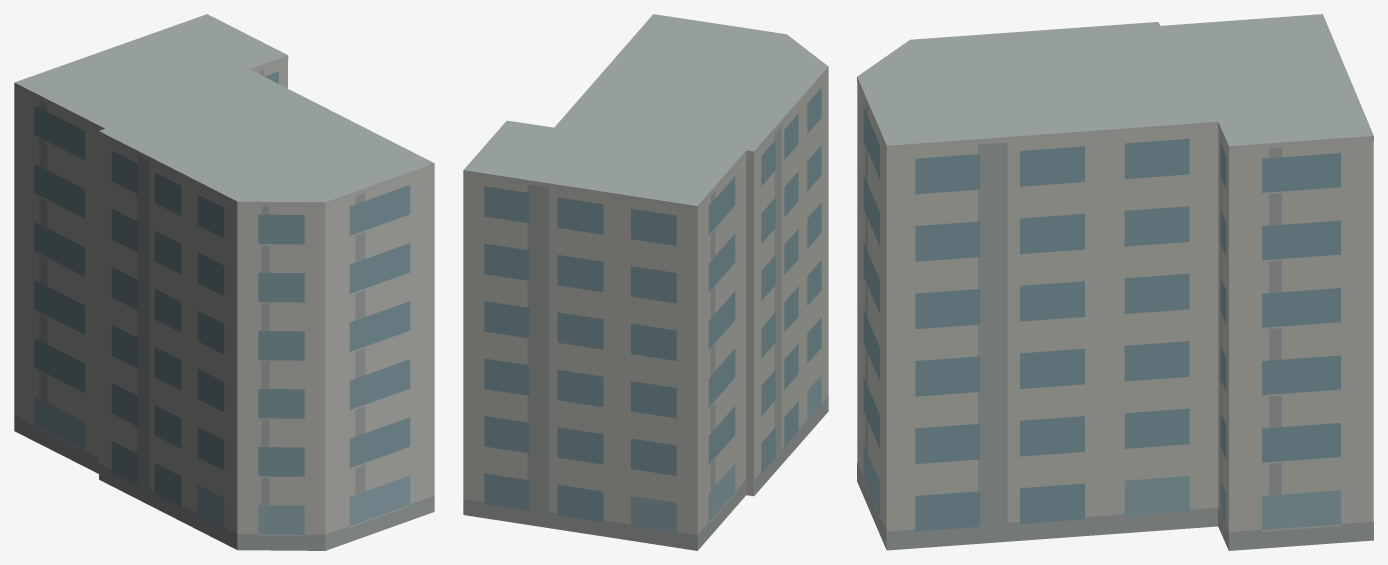
Rendered from survey-upis-32804028.glb.
3 views of the same model, side by side, from view 1: azimuth 30°, elevation 25°; view 2: azimuth 150°, elevation 25°; view 3: azimuth 270°, elevation 25° (orthographic). The views are drawn at different scales.
Parts seen in each view (by area): view 1: survey-upis-32804028.tmp; view 2: survey-upis-32804028.tmp; view 3: survey-upis-32804028.tmp.
Part boxes in pixels (x1,y1,x2,y2): survey-upis-32804028.tmp: (14, 14, 434, 550); survey-upis-32804028.tmp: (463, 14, 828, 550); survey-upis-32804028.tmp: (857, 14, 1373, 550).
Bounding box in the file's own units: 12.55 × 17.9 × 20.72.
